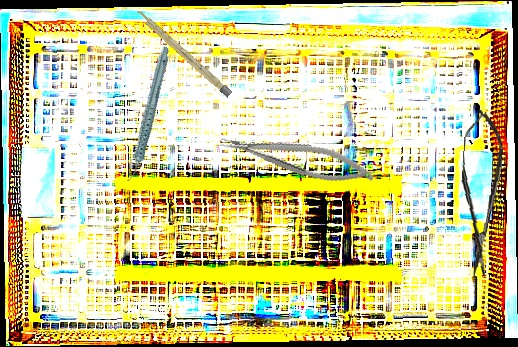Handpiece: (98, 45, 196, 183)
Micro Scissor: (454, 109, 506, 280)
Needle Holder: (217, 121, 378, 194)
Scalpel Handle: (134, 8, 233, 98)
